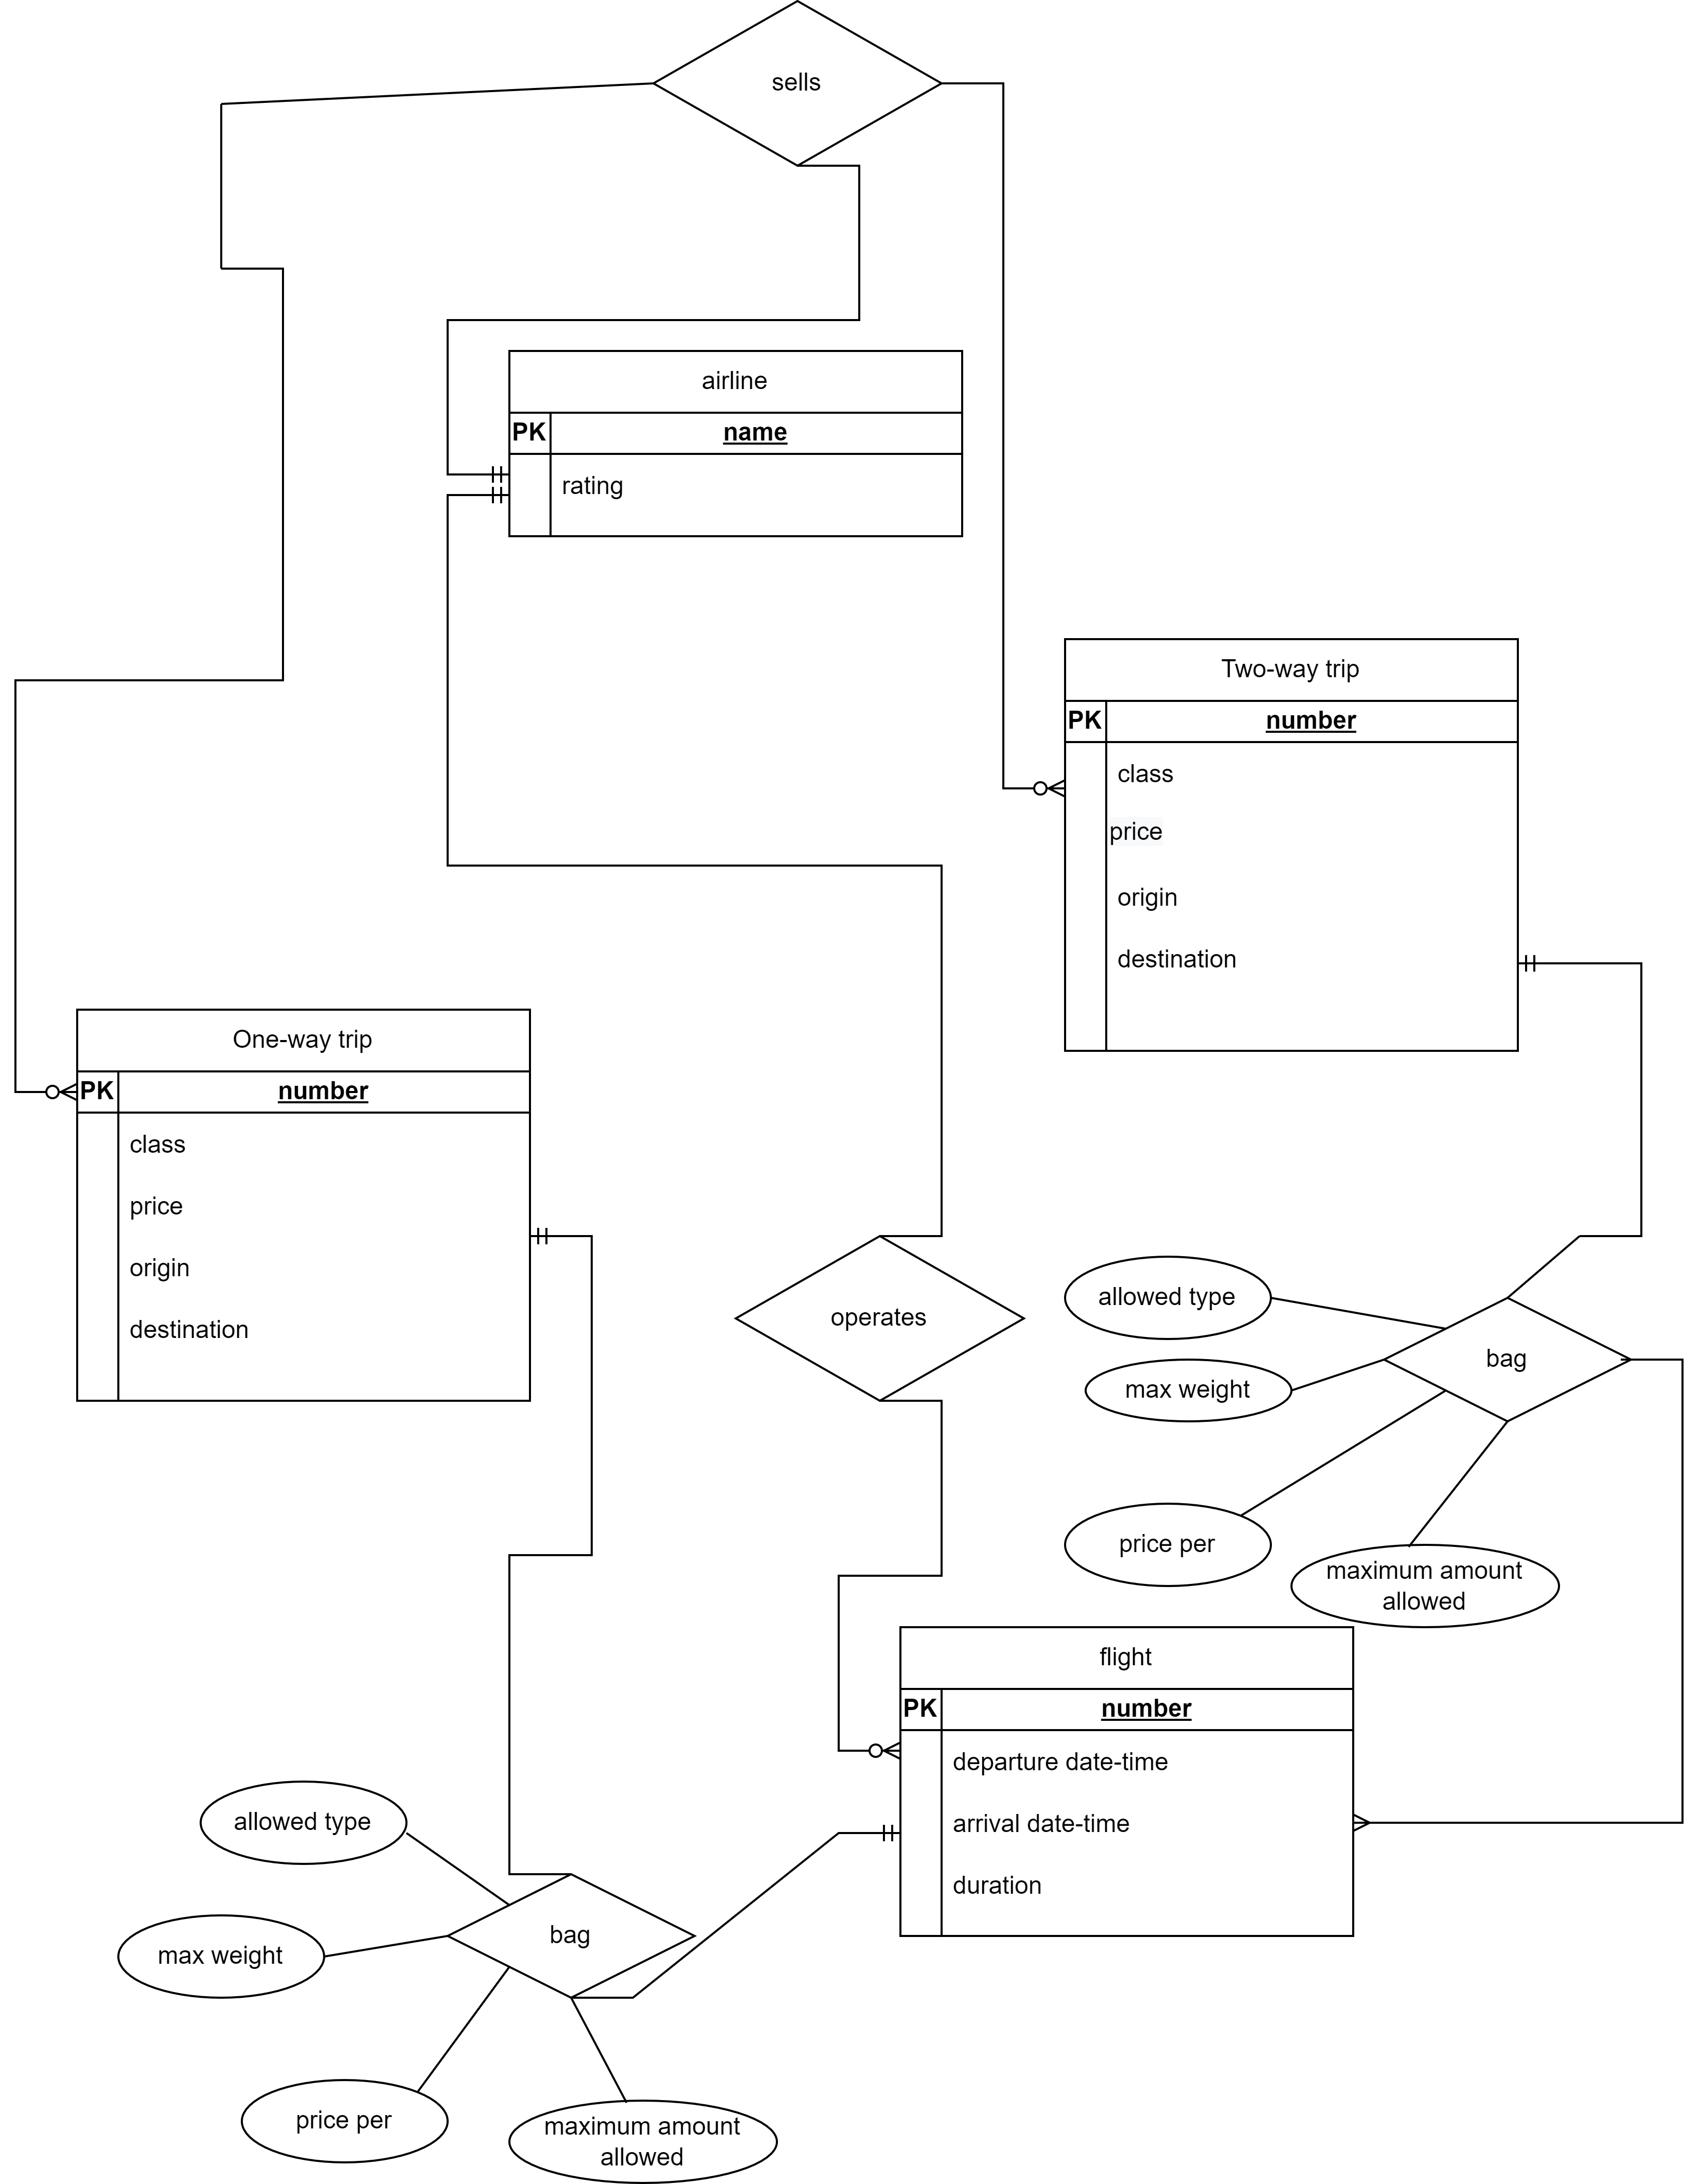entity: (1065, 640, 1525, 1048), (76, 1003, 526, 1402), (908, 1629, 1351, 1943), (507, 355, 966, 541)
many: (838, 1739, 904, 1760), (1353, 1813, 1416, 1835), (1005, 780, 1065, 799), (18, 1081, 78, 1101)
one: (1519, 955, 1640, 971), (838, 1821, 902, 1845), (530, 1225, 592, 1250), (445, 463, 509, 484), (450, 486, 507, 505)
rel: (649, 2, 941, 167), (732, 1234, 1025, 1399), (1384, 1298, 1629, 1418), (448, 1877, 698, 1993)
rel_attr: (509, 2101, 780, 2182), (1291, 1546, 1562, 1624), (197, 1783, 409, 1867), (1067, 1257, 1269, 1342), (239, 2081, 448, 2163), (117, 1918, 324, 2000), (1062, 1503, 1267, 1585), (1085, 1358, 1292, 1422)
